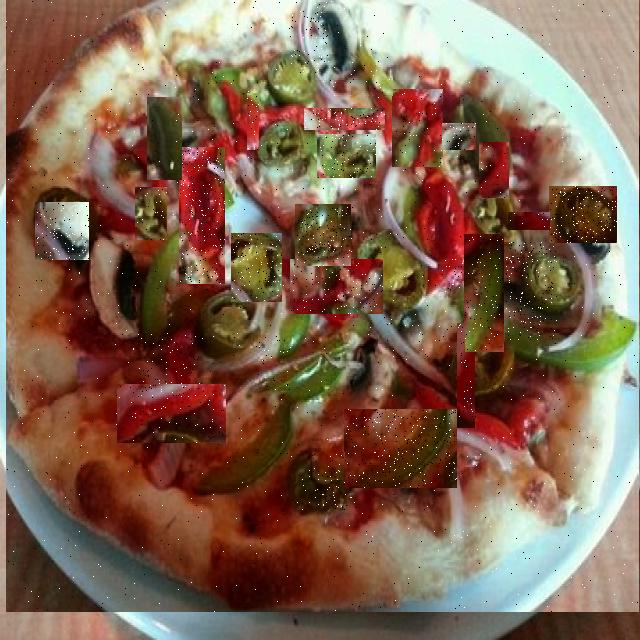Jalapenoes: (345, 410, 457, 490), (387, 280, 448, 358), (133, 333, 204, 398), (465, 234, 504, 352), (550, 186, 617, 243), (232, 233, 282, 302), (296, 204, 351, 266), (302, 452, 355, 510), (148, 97, 182, 180), (327, 56, 393, 96), (318, 134, 376, 178), (69, 260, 121, 308), (299, 211, 352, 257), (136, 187, 167, 240)
Mushrooms: (506, 242, 557, 340), (36, 202, 89, 260), (288, 0, 328, 73), (256, 335, 292, 392), (442, 124, 476, 152)
Pizza: (7, 0, 638, 612)
Tomato: (118, 384, 226, 443), (180, 147, 225, 284), (291, 259, 383, 314), (393, 89, 443, 167), (458, 323, 475, 428), (305, 108, 385, 130), (480, 142, 509, 198), (509, 212, 552, 230), (442, 257, 462, 293), (248, 93, 259, 150)
